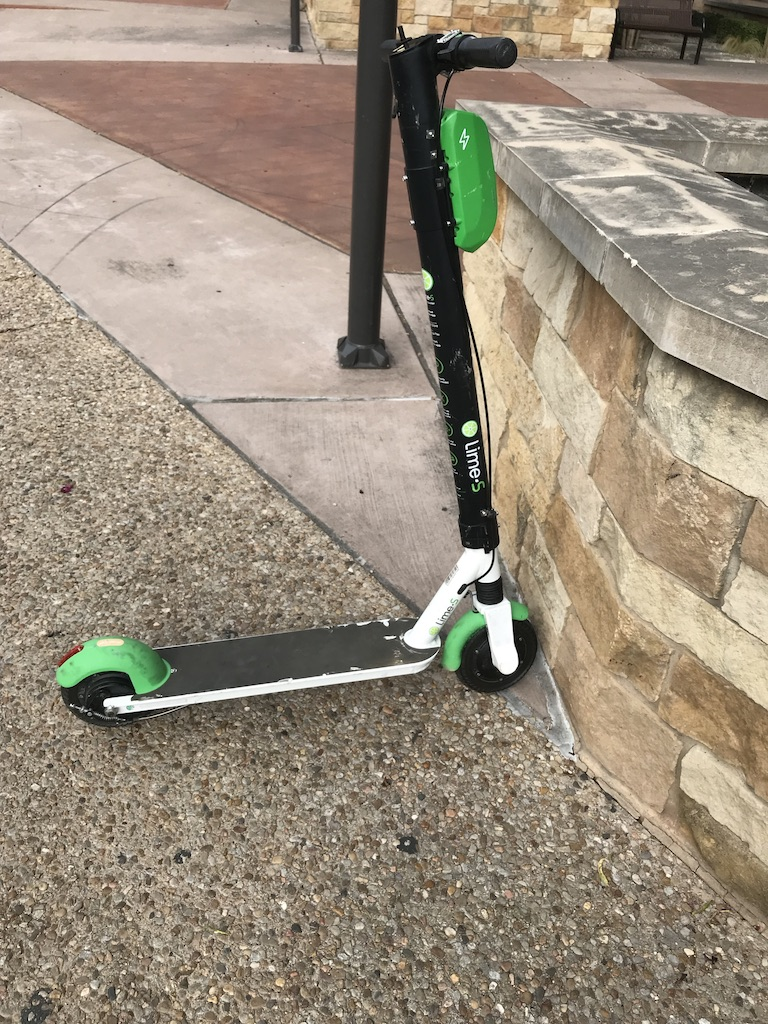scooter: (54, 26, 542, 732)
